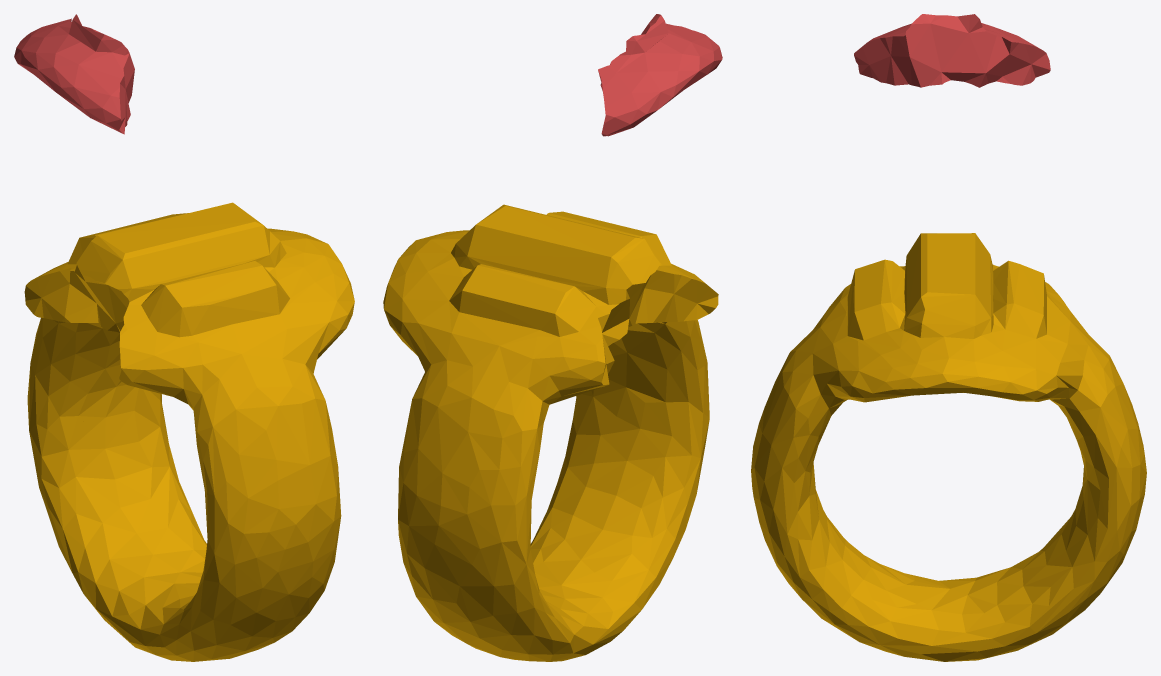
The model's file is fractured_28_2pcs_transformed.glb.
3 views of the same model, side by side, from view 1: azimuth 30°, elevation 25°; view 2: azimuth 150°, elevation 25°; view 3: azimuth 270°, elevation 25° (orthographic). The views are drawn at different scales.
Parts seen in each view (by area): view 1: piece_0.obj, piece_1.obj; view 2: piece_0.obj, piece_1.obj; view 3: piece_0.obj, piece_1.obj.
Part boxes in pixels (x1,y1,x2,y2): piece_0.obj: (24, 202, 354, 661); piece_1.obj: (14, 14, 134, 134); piece_0.obj: (383, 204, 718, 661); piece_1.obj: (598, 14, 722, 136); piece_0.obj: (751, 233, 1146, 661); piece_1.obj: (854, 14, 1050, 87).
Size of the model in its own units: 0.7357 by 1.55 by 0.9353.
